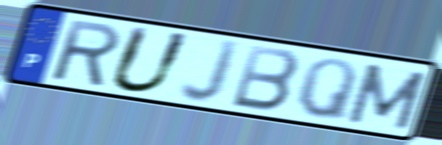B: (228, 42, 302, 114)
J: (178, 36, 244, 106)
M: (343, 60, 430, 133)
Q: (292, 56, 360, 125)
R: (51, 17, 123, 90)
U: (105, 23, 195, 96)
